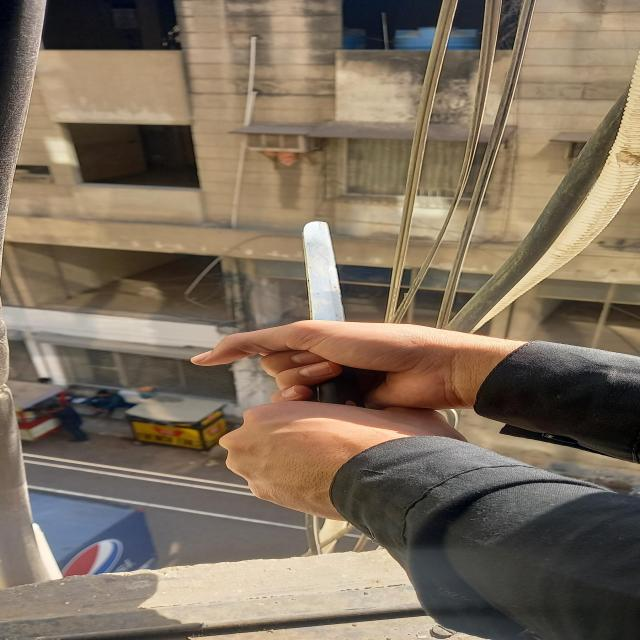Knife: (303, 221, 352, 321)
Person: (193, 319, 639, 640)
